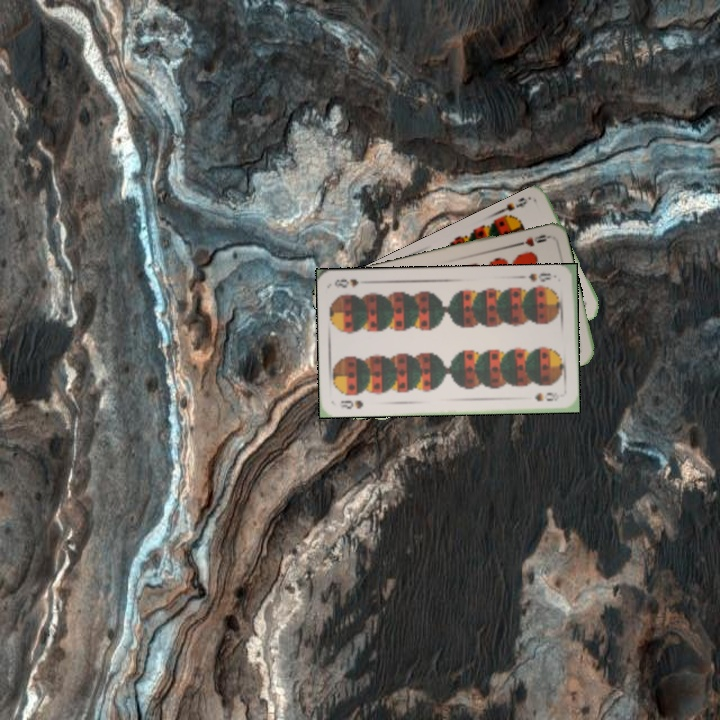H9: (511, 231, 551, 249)
S8: (337, 396, 365, 412), (525, 269, 553, 284)
S9: (494, 193, 533, 223)
